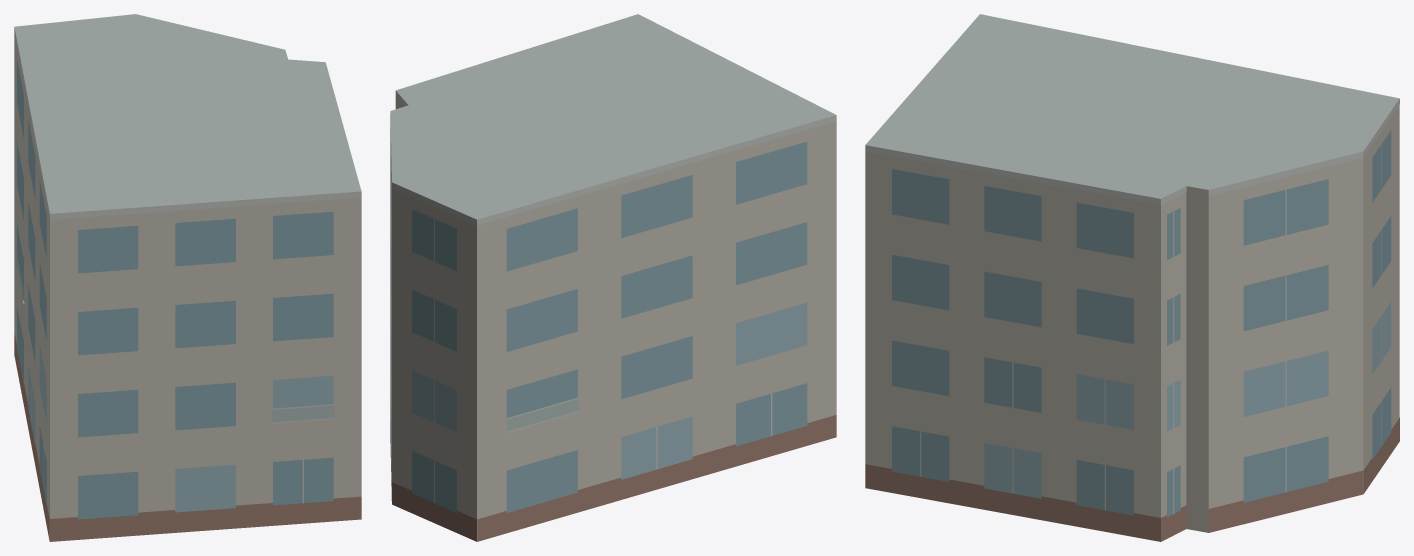
File: survey-upis-32808064.glb
The picture shows the model from 3 angles, left to right: view 1: azimuth 30°, elevation 25°; view 2: azimuth 150°, elevation 25°; view 3: azimuth 270°, elevation 25°; orthographic projection. The views are drawn at different scales.
Parts seen in each view (by area): view 1: survey-upis-32808064.tmp; view 2: survey-upis-32808064.tmp; view 3: survey-upis-32808064.tmp.
Part boxes in pixels (left/top/right/bottom): survey-upis-32808064.tmp: left=14, top=14, right=361, bottom=541; survey-upis-32808064.tmp: left=390, top=14, right=836, bottom=541; survey-upis-32808064.tmp: left=865, top=14, right=1399, bottom=541.
Bounding box in the file's own units: 15.33 × 13.25 × 18.73.
